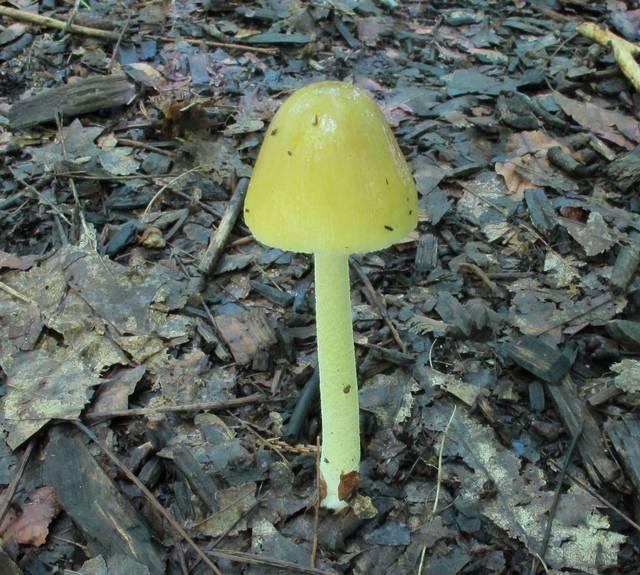Edible Mushroom: (241, 79, 419, 514)
